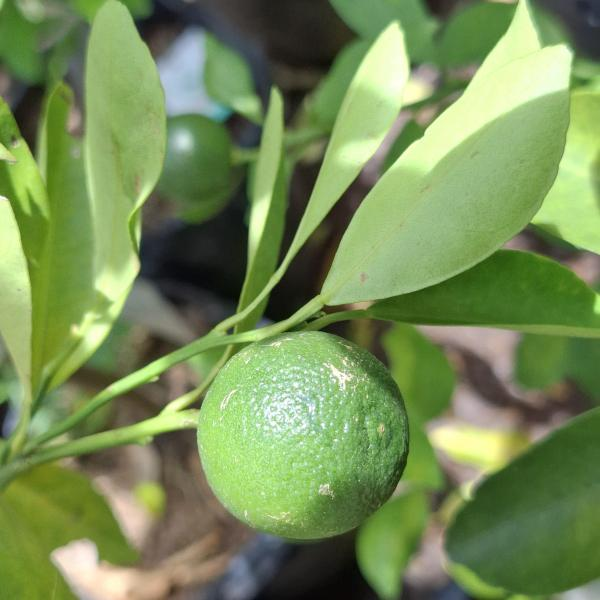Scab: (181, 328, 417, 553)
